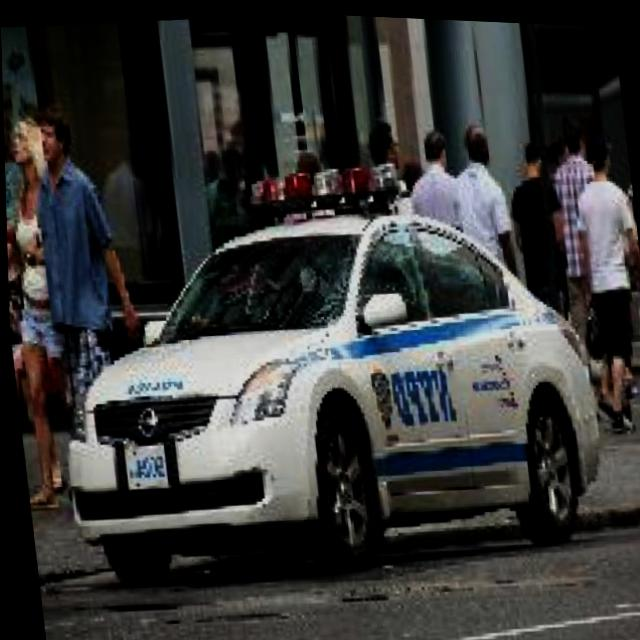emergency: (33, 176, 617, 606)
